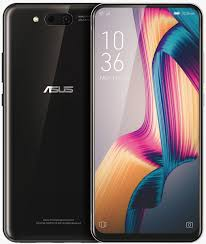asus: (88, 2, 206, 243), (1, 1, 96, 242)
